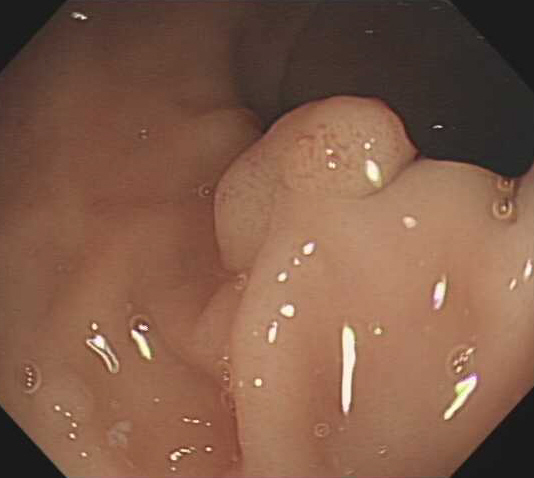adenoma: (209, 93, 419, 268)
